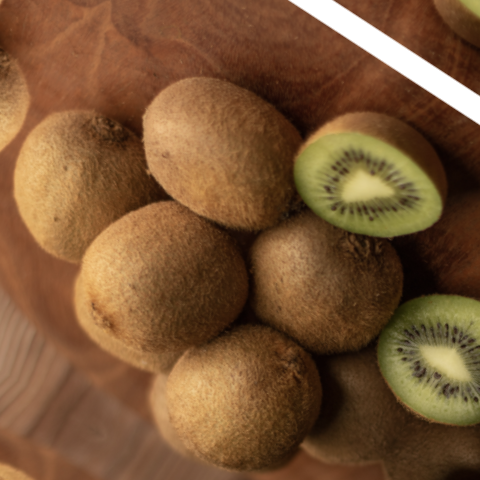kiwi: (98, 42, 352, 271), (47, 174, 287, 404), (215, 172, 447, 394), (0, 71, 192, 290), (133, 297, 357, 480)
